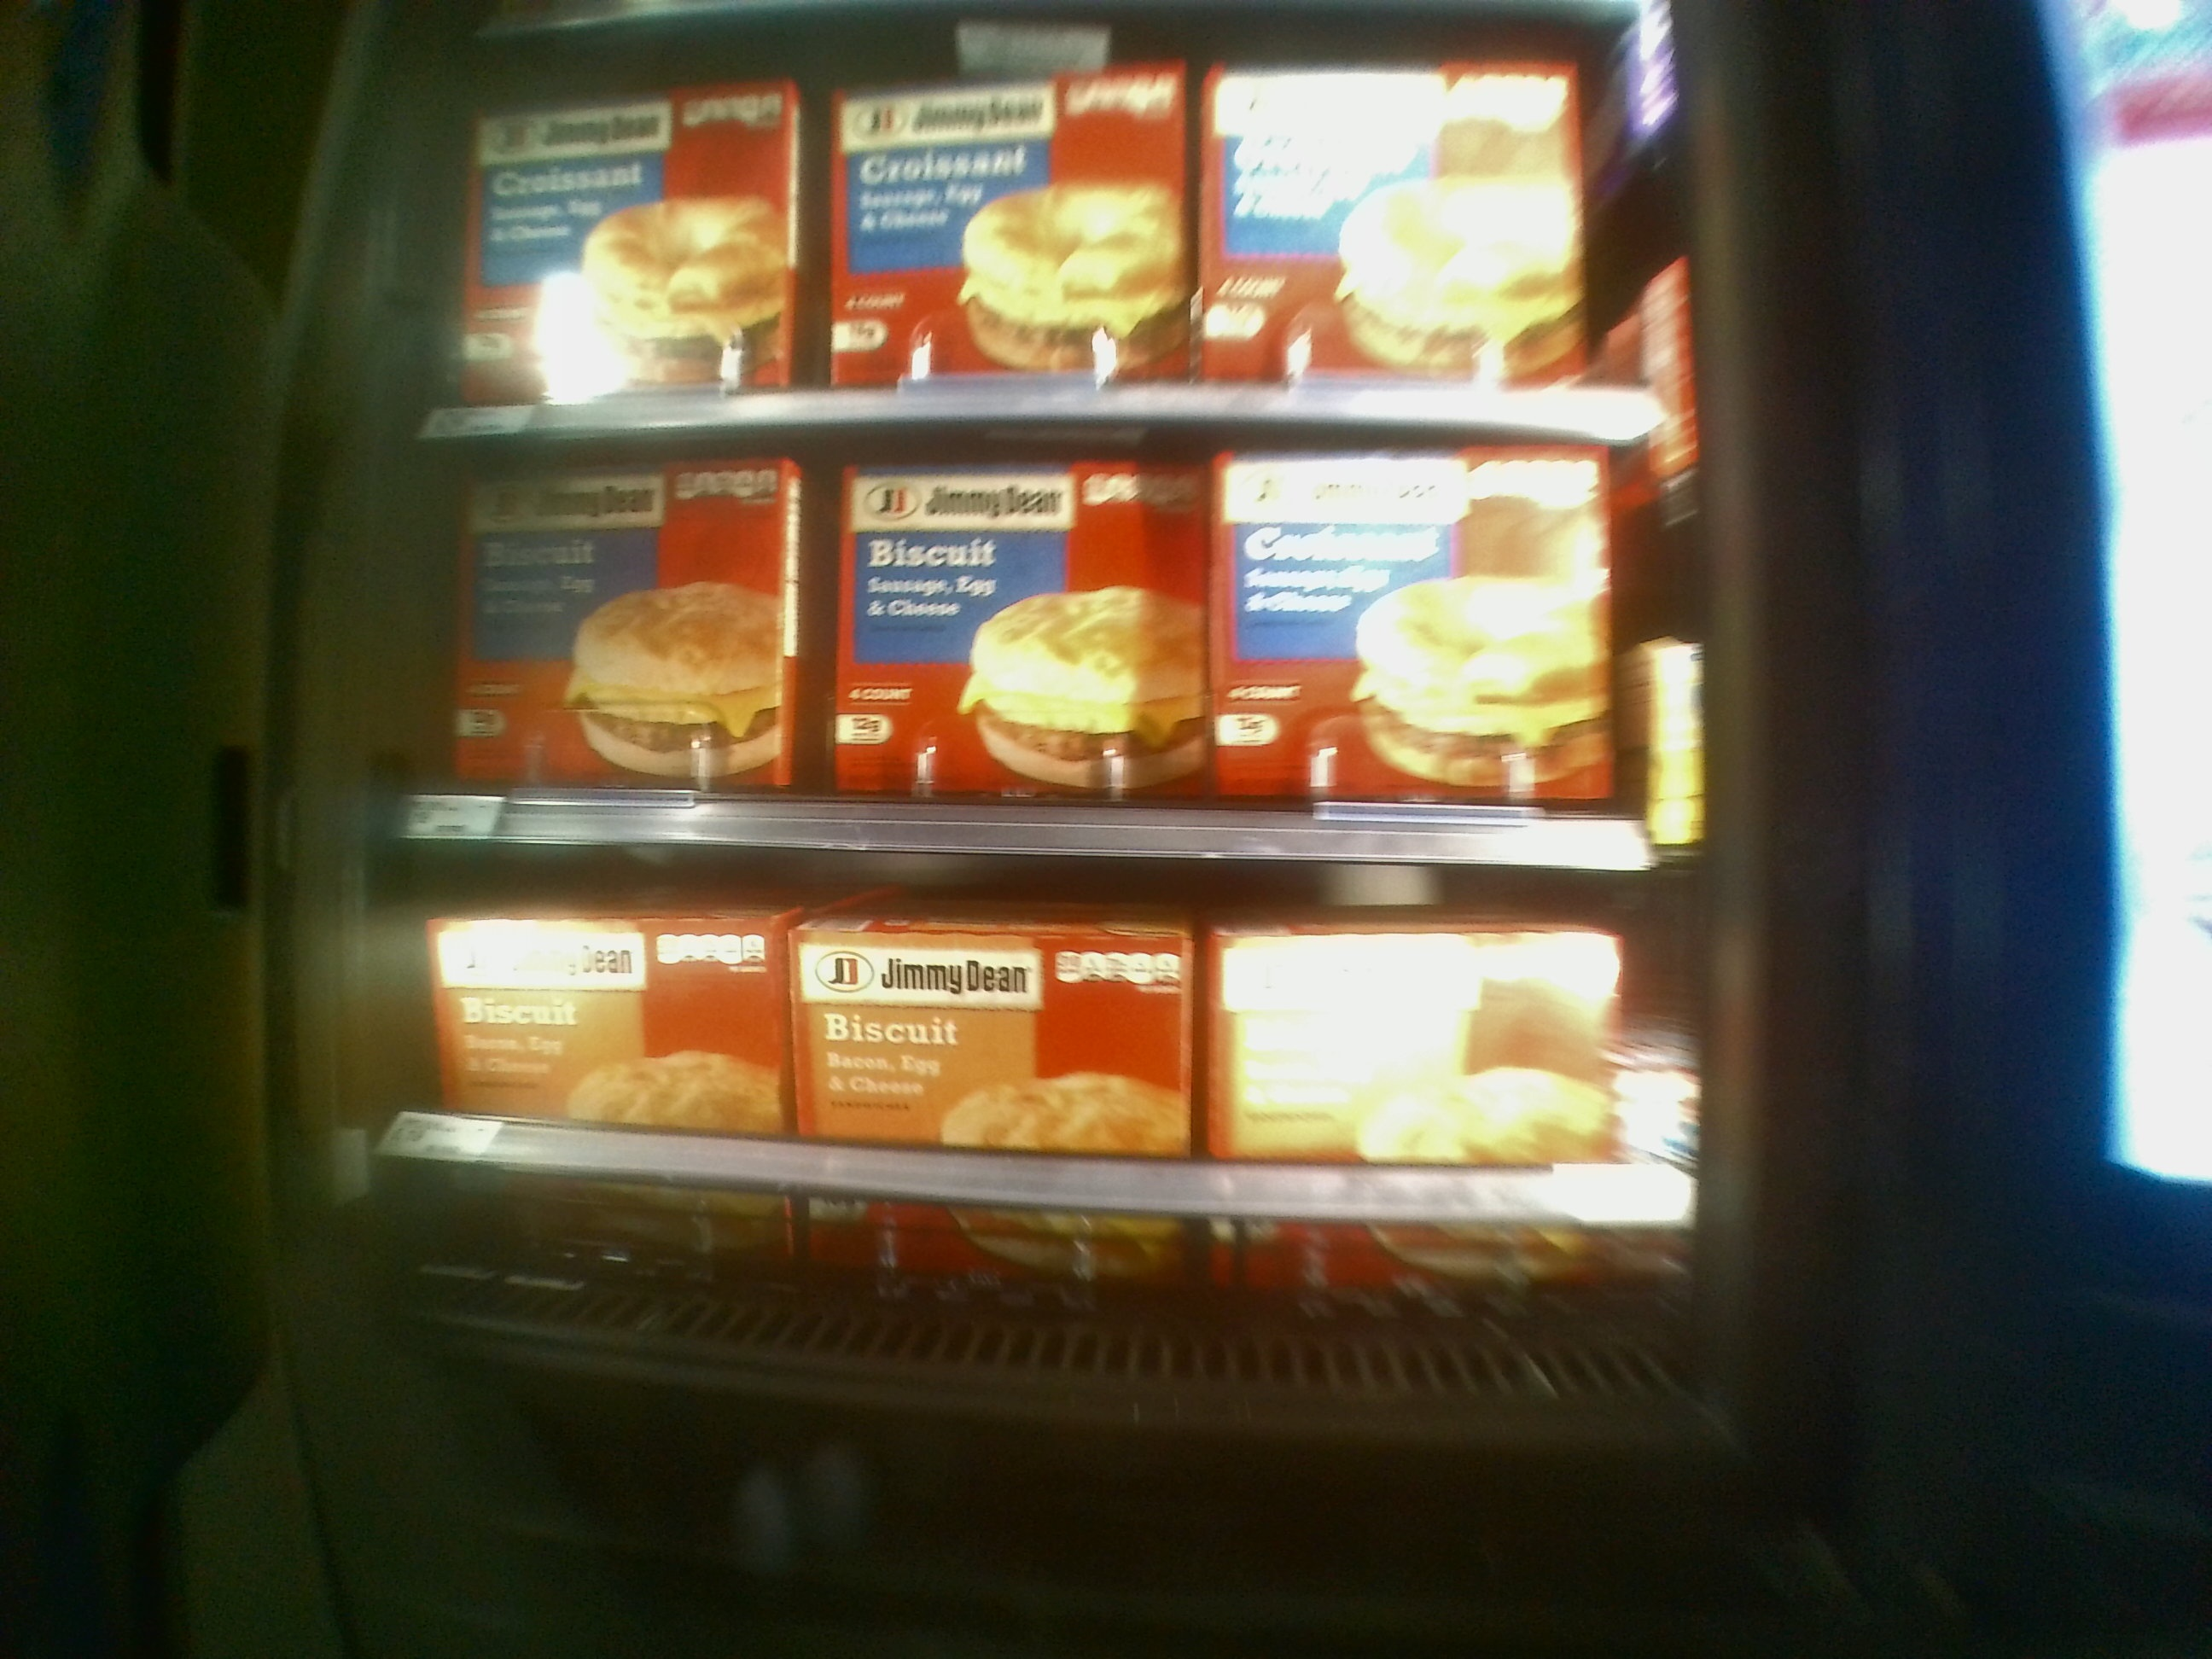shelf: (394, 842, 1707, 1361), (387, 420, 1702, 868)
